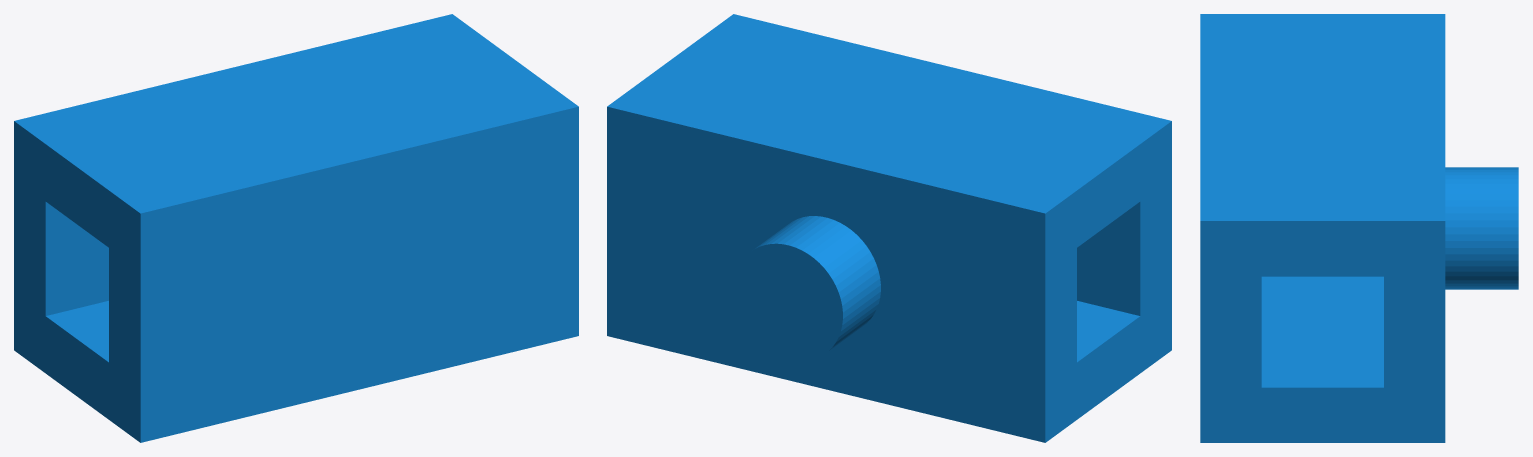
Rendered from cart.dae.
3 renders of one model, left to right at view 1: azimuth 30°, elevation 25°; view 2: azimuth 150°, elevation 25°; view 3: azimuth 270°, elevation 25°, orthographic. The views are drawn at different scales.
Parts seen in each view (by area): view 1: Cart; view 2: Cart; view 3: Cart.
Boxes of the visible parts, x1,y1,x2,y2 form: Cart: (14, 14, 578, 442); Cart: (607, 14, 1171, 442); Cart: (1200, 14, 1518, 442).
Bounding box in the file's own units: 0.2 × 0.13 × 0.1.
